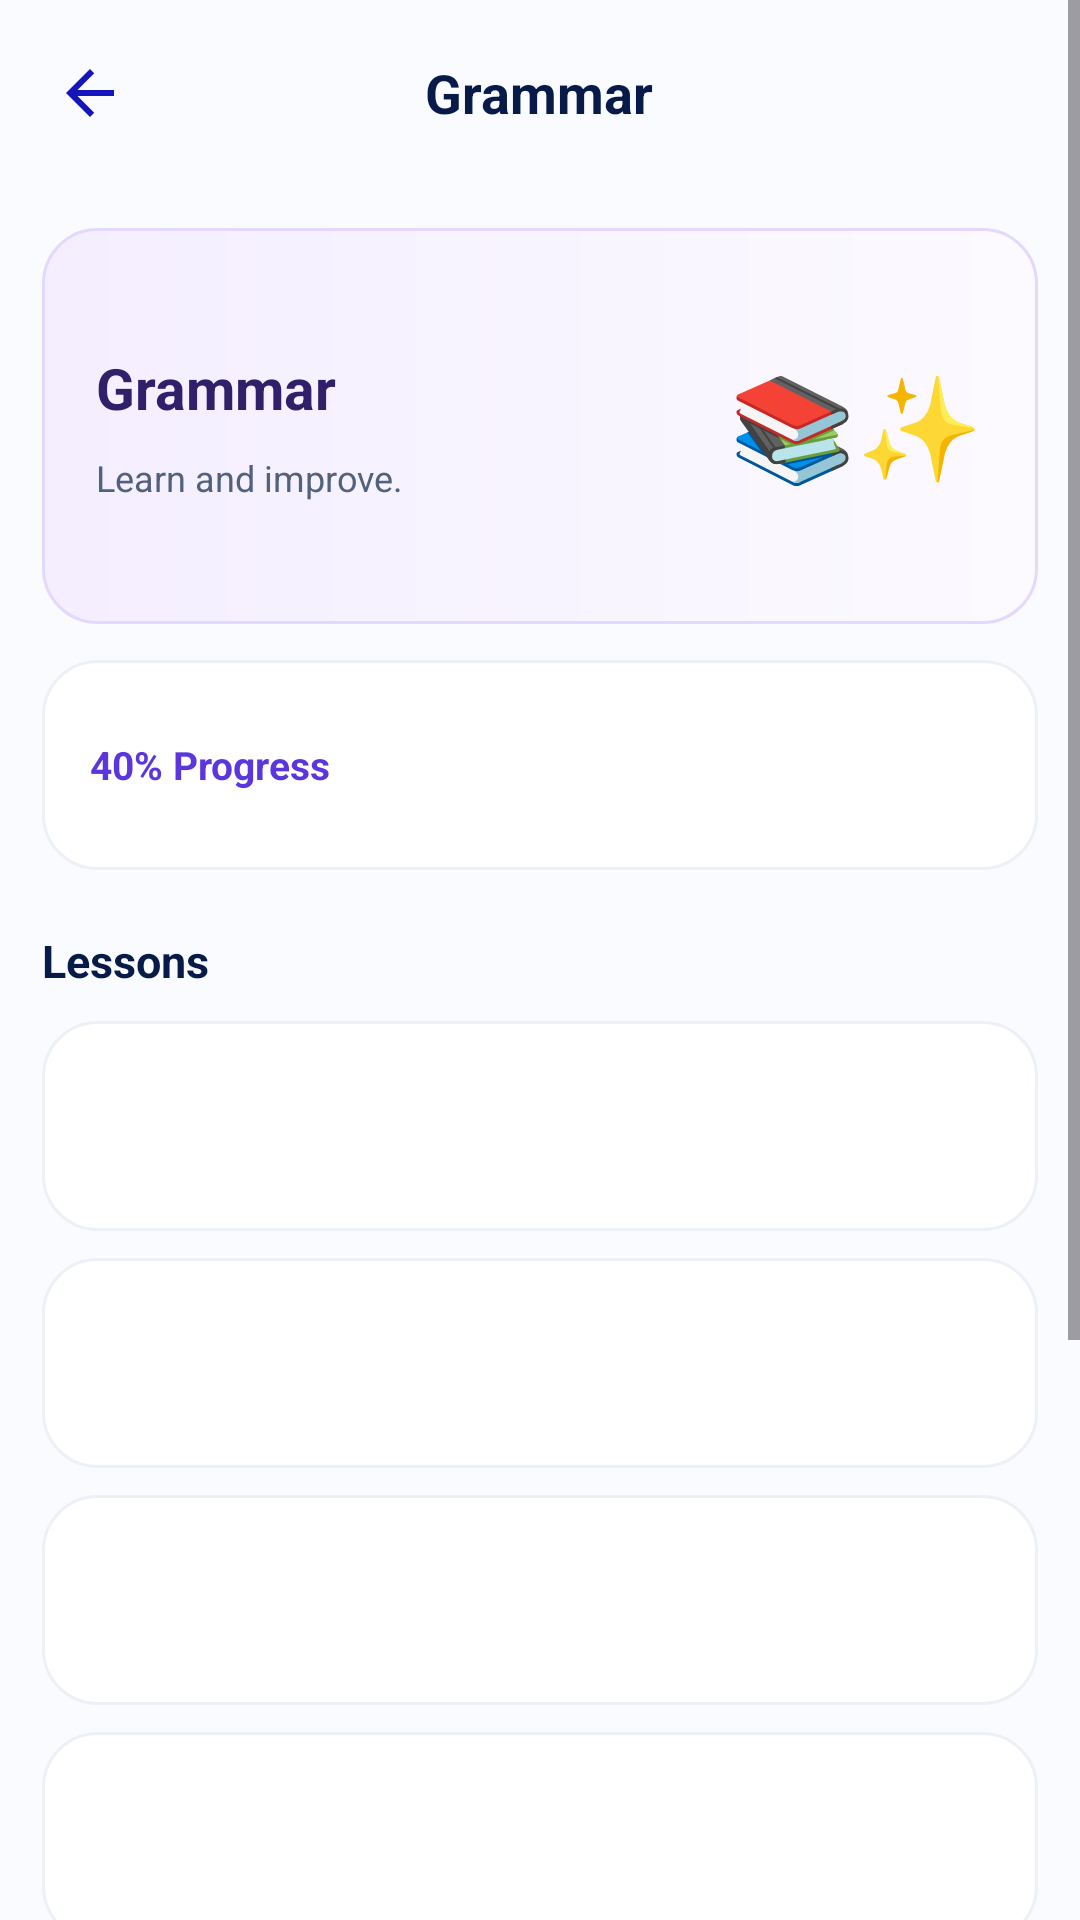

Where icons sit on this 1080px x 1920px app screen, as (x1, y1, x2, y2):
arrow back: (66, 69, 114, 117)
